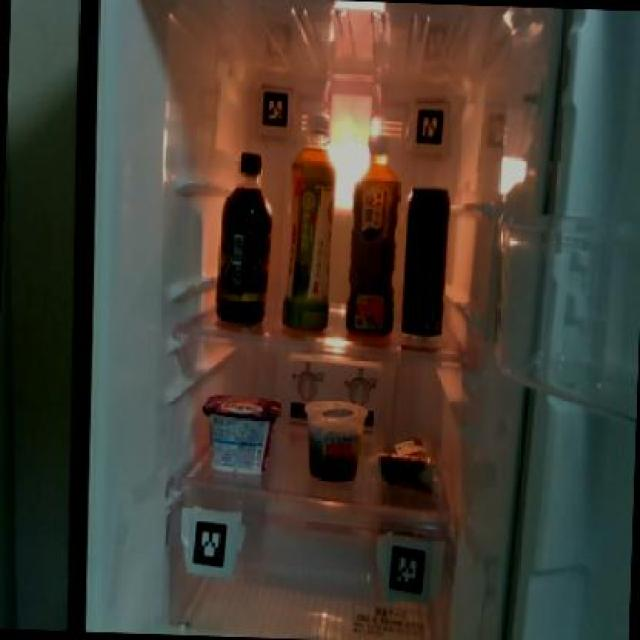coffee: (213, 148, 276, 327)
energy_drink: (398, 183, 452, 345)
pudding: (302, 397, 366, 480)
rice_ball: (370, 433, 442, 498)
tea_a: (342, 128, 406, 340)
tea_i: (280, 108, 338, 332)
yogurt: (198, 390, 280, 481)
